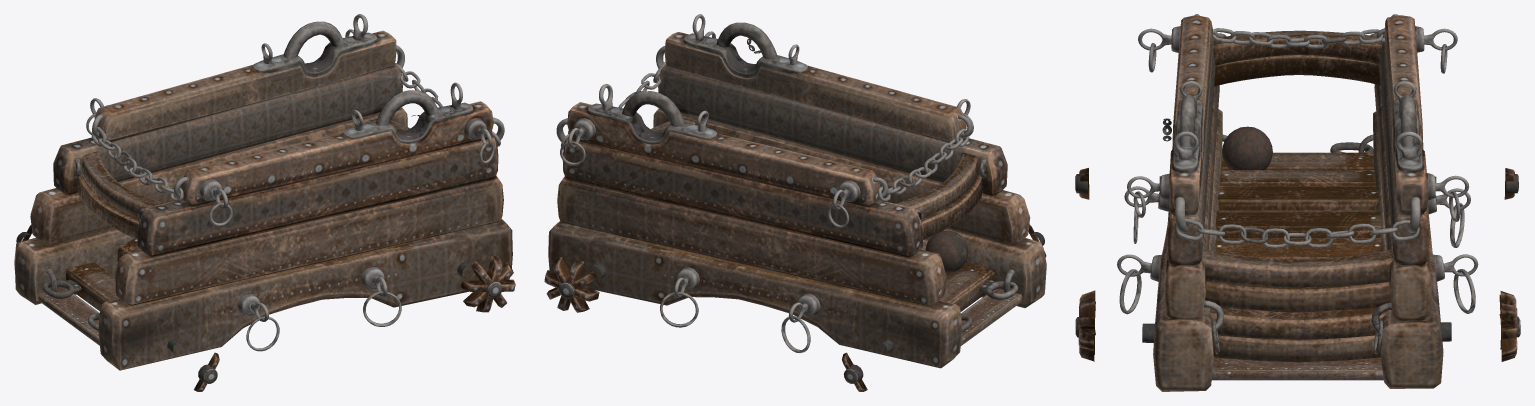
Rendered from cannon_chassis.glb.
The picture shows the model from 3 angles, left to right: view 1: azimuth 30°, elevation 25°; view 2: azimuth 150°, elevation 25°; view 3: azimuth 270°, elevation 25°; orthographic projection. The views are drawn at different scales.
Visible parts, largest first — view 1: cannon_cannons_0; view 2: cannon_cannons_0; view 3: cannon_cannons_0.
Part boxes in pixels (box(x1,y1,x2,y2)): cannon_cannons_0: box(14, 14, 515, 391); cannon_cannons_0: box(544, 14, 1046, 391); cannon_cannons_0: box(1075, 14, 1520, 391).
Size of the model in its own units: 2.46 by 1.24 by 2.05.
Materials: 1 (1 with a texture image).
